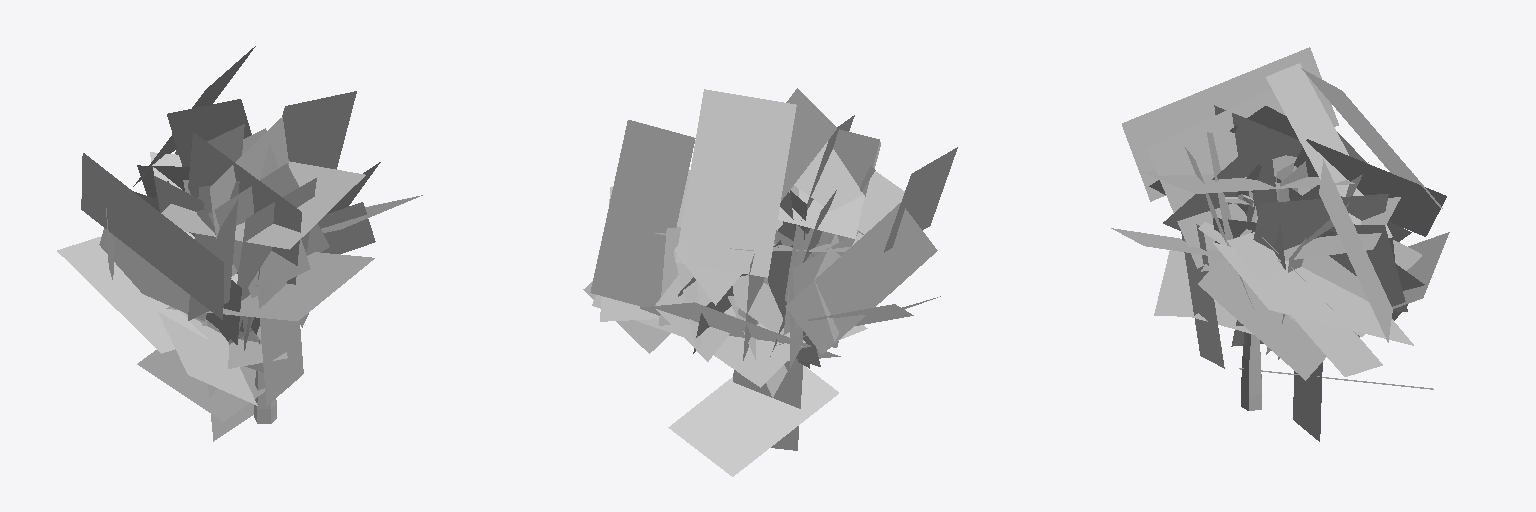
Rendered from shrub1.obj.
3 views of the same model, side by side, from view 1: azimuth 30°, elevation 25°; view 2: azimuth 150°, elevation 25°; view 3: azimuth 270°, elevation 25° (orthographic).
Size of the model in its own units: 4.48 by 4.77 by 4.04.